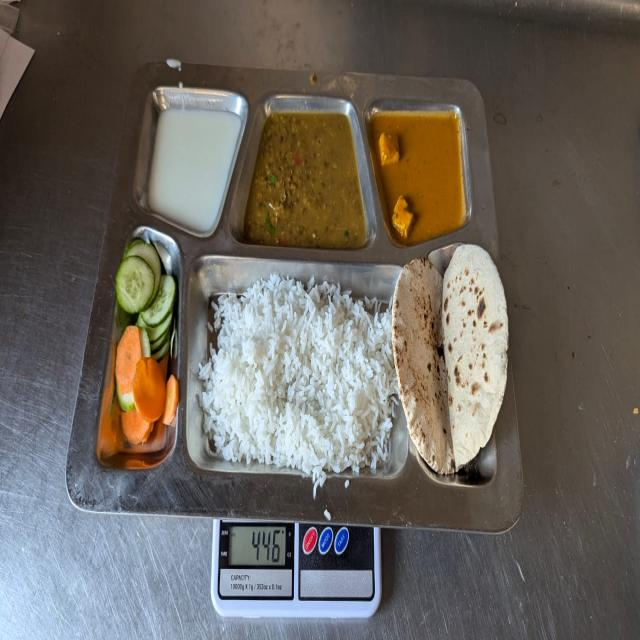Chapati: (398, 246, 510, 487)
Curd: (147, 106, 244, 237)
Dal: (245, 101, 367, 252)
Paneer Curry: (370, 109, 472, 243)
Salad: (116, 233, 180, 448)
White Rice: (202, 273, 394, 477)
